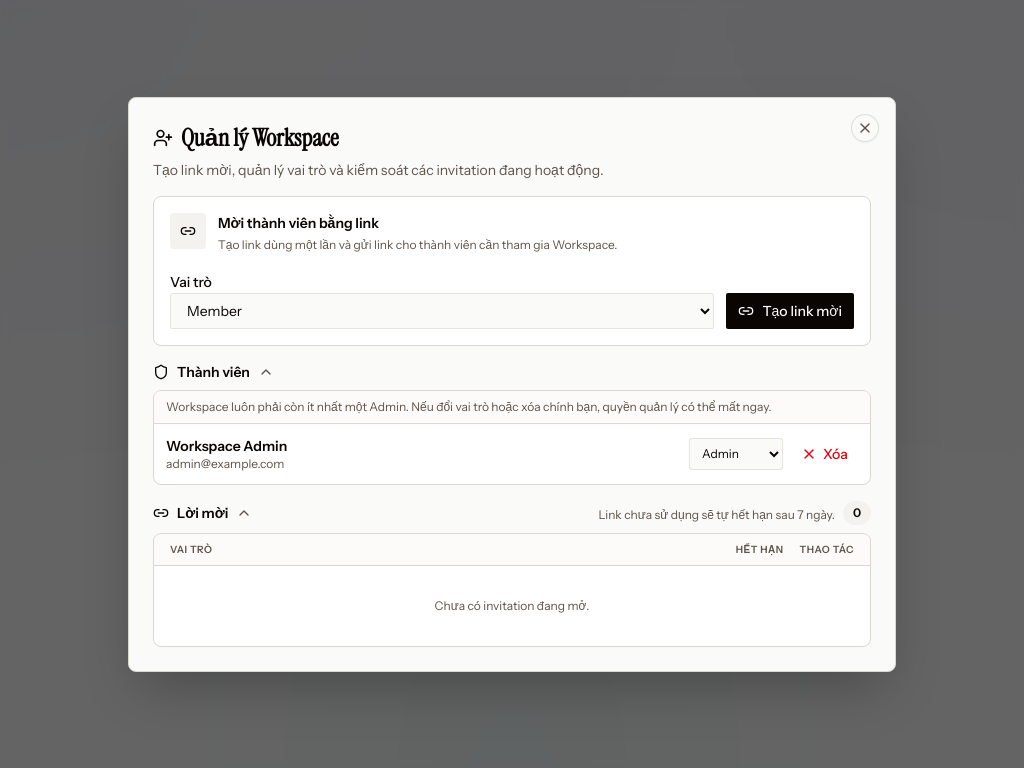
Test case: WorkspaceManagementModal › shows the backend conflict and keeps the last Admin unchanged
Select "Member" in the dropdown named "Vai trò của admin@example.com" at x=736, y=454, box 689,438 -> 783,470
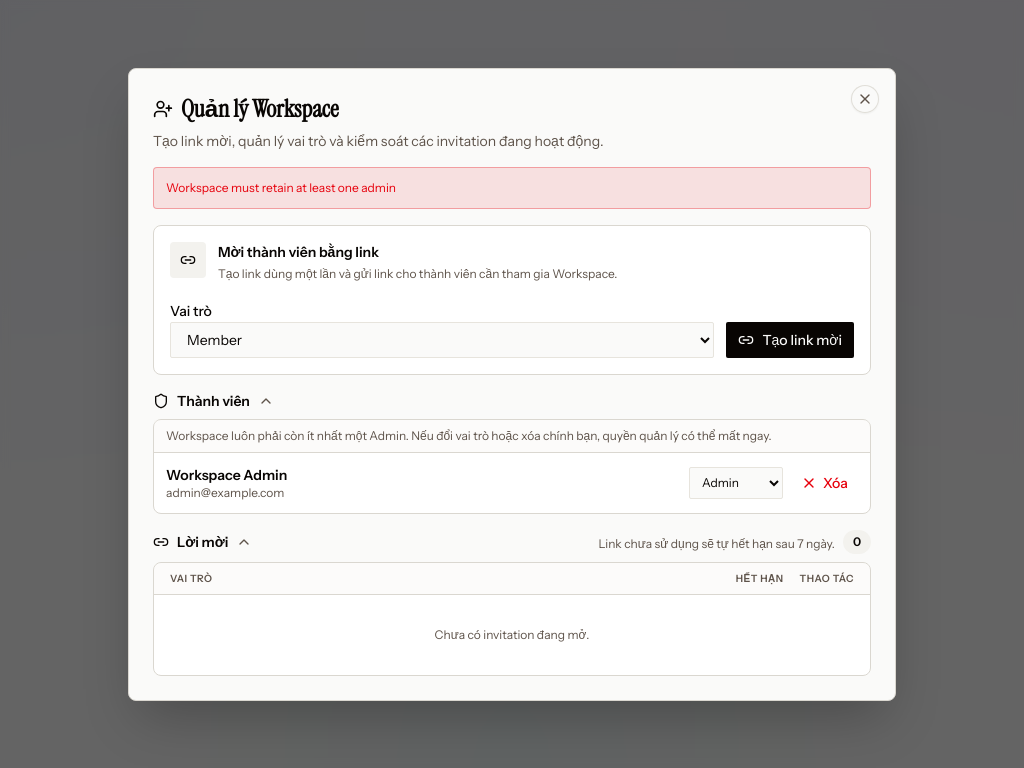
Expected: the message reads "Workspace must retain at least one admin", 166,180 -> 396,194
